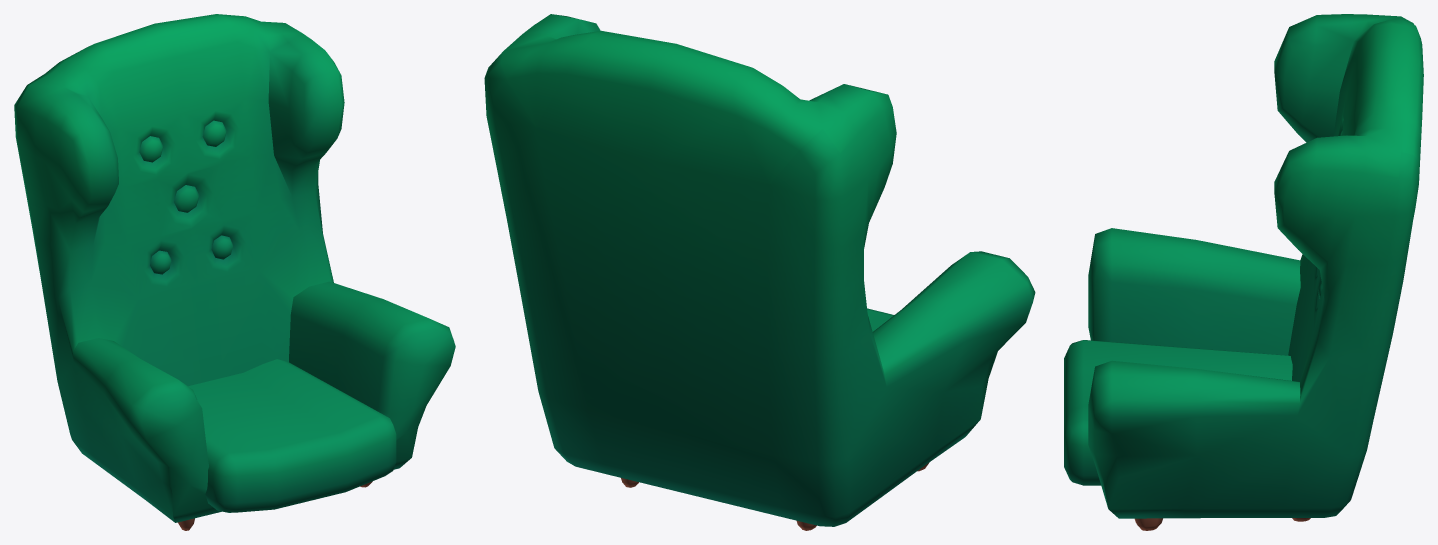
Rendered from chair_large_green.obj.
The picture shows the model from 3 angles, left to right: view 1: azimuth 30°, elevation 25°; view 2: azimuth 150°, elevation 25°; view 3: azimuth 270°, elevation 25°; orthographic projection. The views are drawn at different scales.
Parts seen in each view (by area): view 1: chair_large_green; view 2: chair_large_green; view 3: chair_large_green.
Boxes of the visible parts, x1,y1,x2,y2 form: chair_large_green: (14, 14, 455, 530); chair_large_green: (484, 14, 1035, 530); chair_large_green: (1064, 14, 1423, 530).
Bounding box in the file's own units: 1.83 × 2.14 × 1.61.
Materials: 1 (1 with a texture image).
